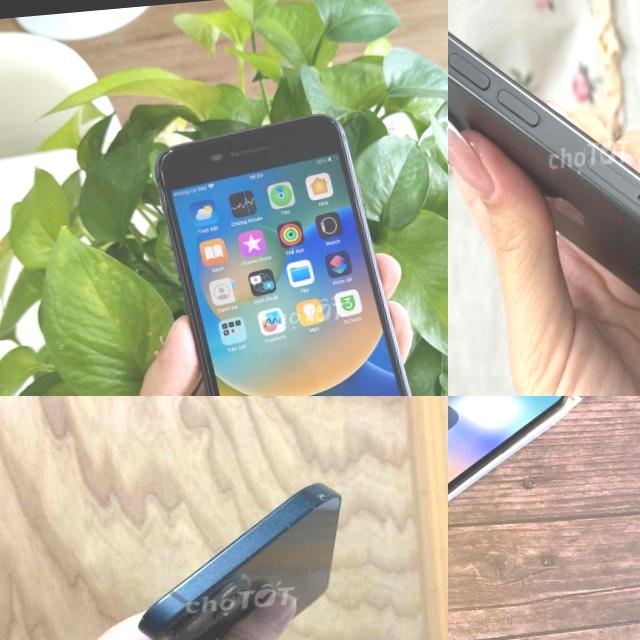scratch: (154, 164, 172, 210), (208, 150, 225, 161), (160, 146, 174, 154), (326, 116, 338, 125)
